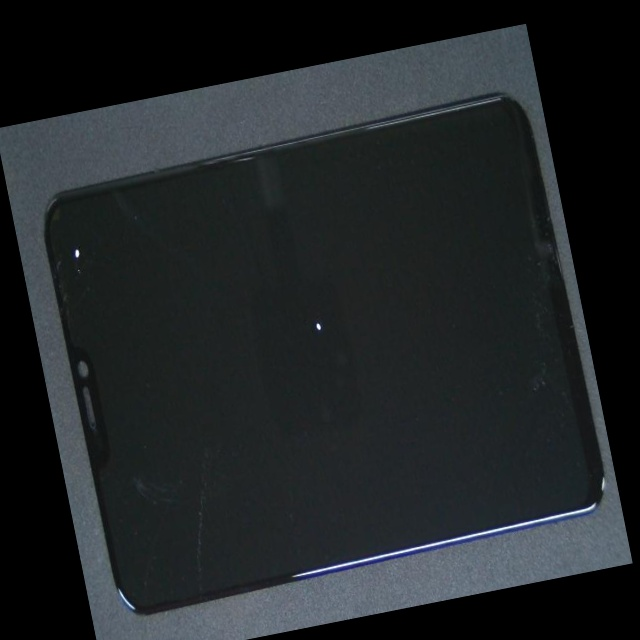stain: (149, 194, 459, 525), (30, 155, 104, 317)
